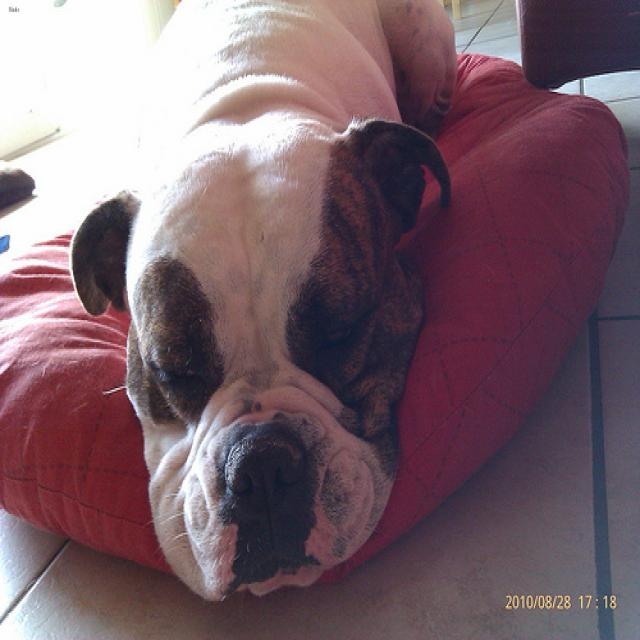dog-american_bulldog: (59, 2, 467, 613)
